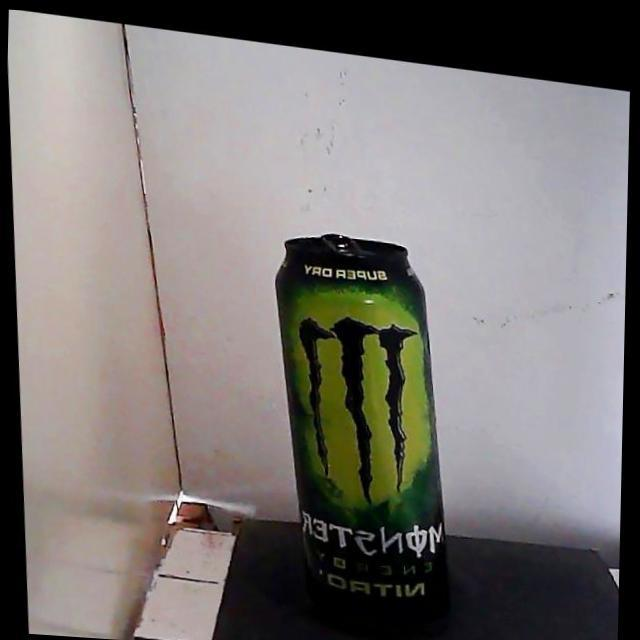metal: (276, 234, 448, 629)
